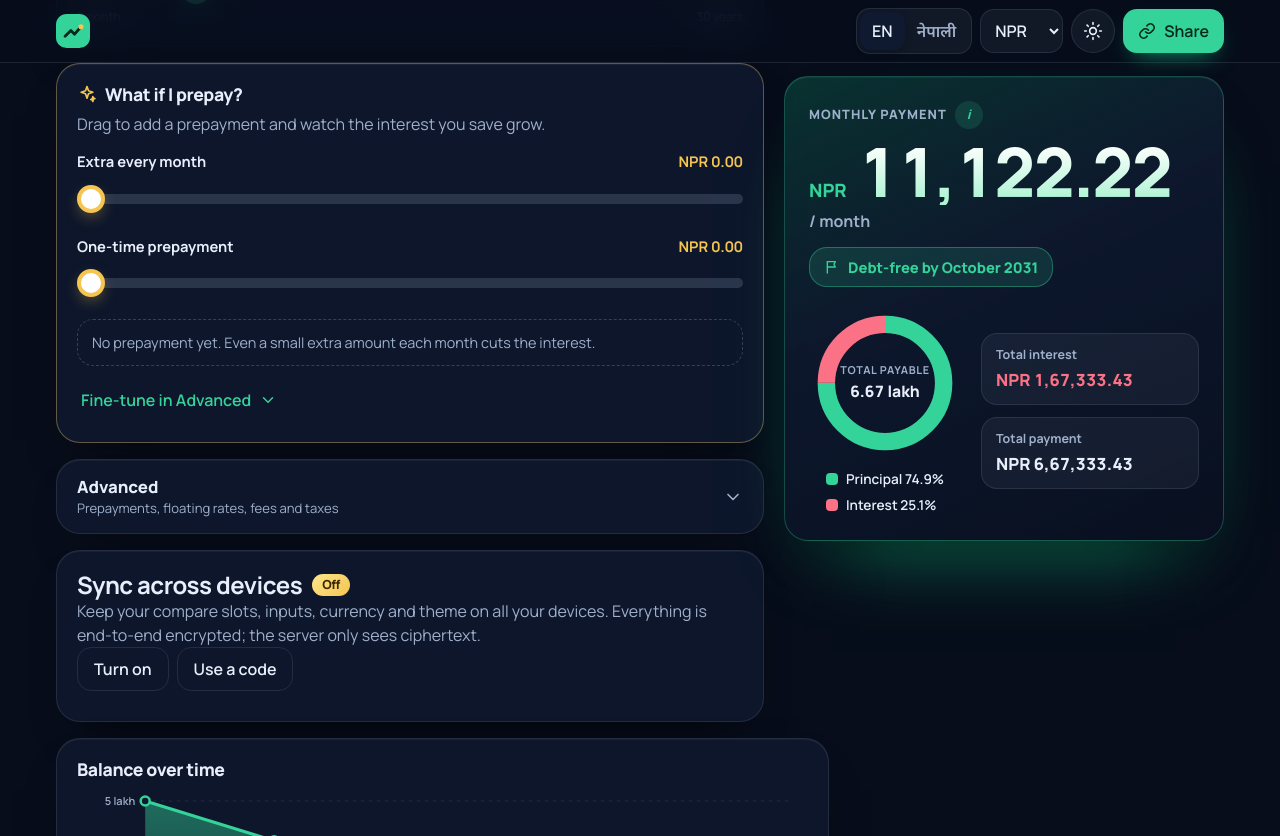
it: shows milestones timeline and highlights extra-payment gains
(page scrolled)
Click the text "Advanced": (118, 487) [77,475,158,498]
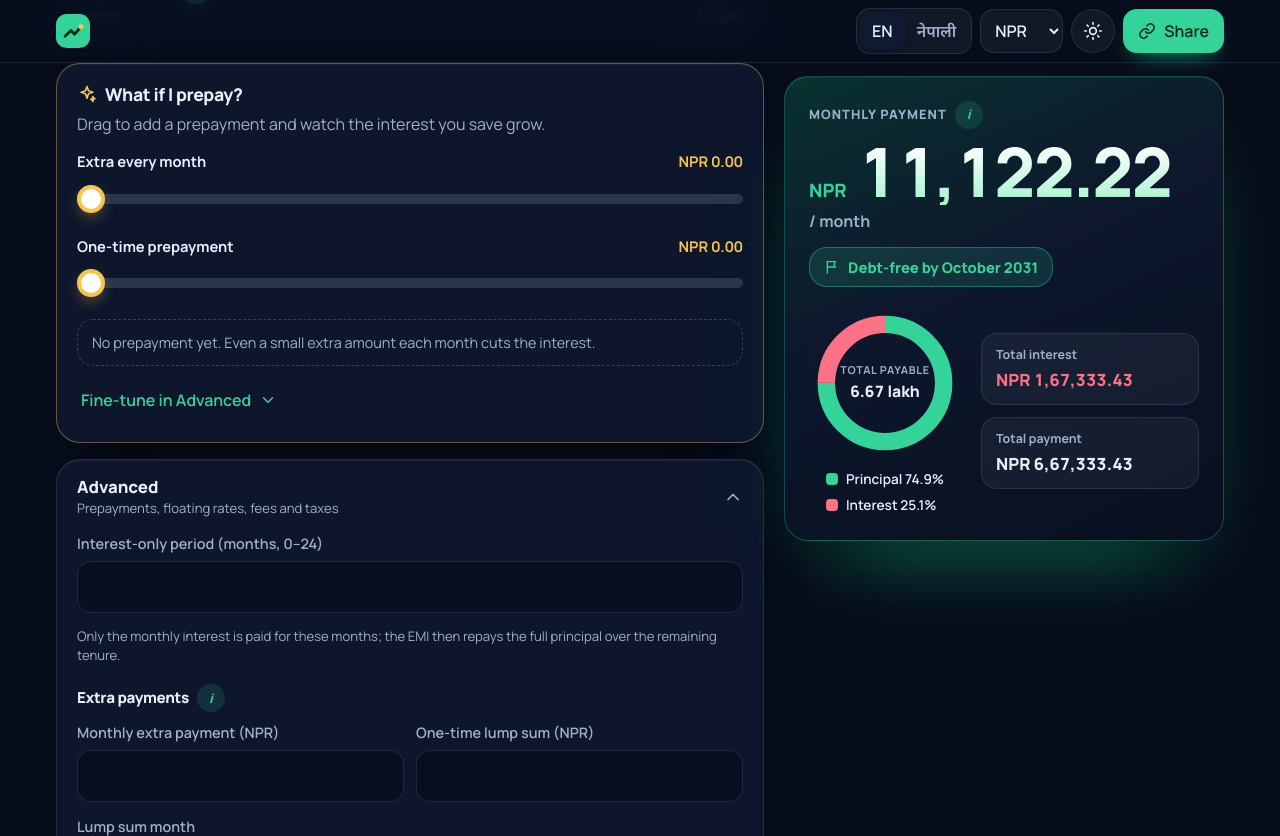
In the field labelled "Monthly extra payment (NPR)": (240, 776) [77,750,404,802], type "10000"
(page scrolled)
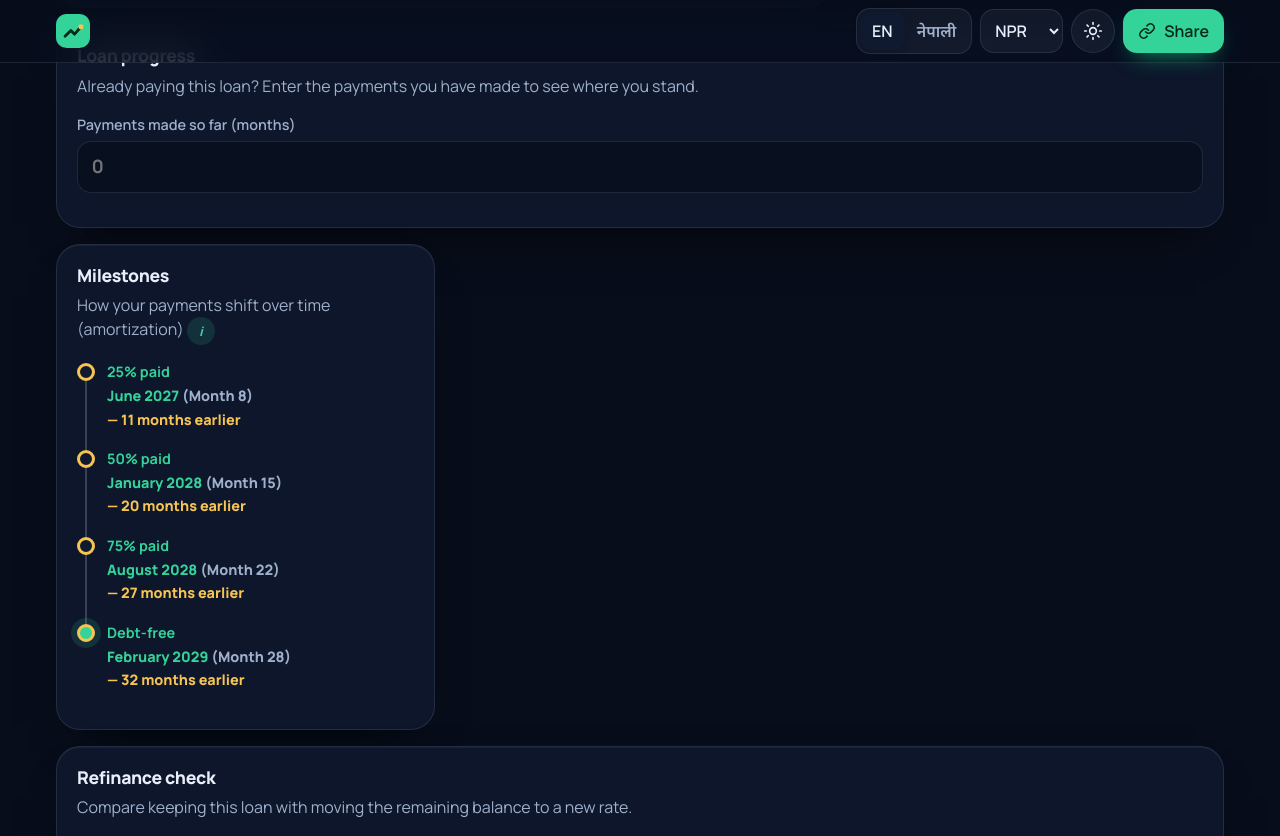
Now the element named "Debt-free milestones" shows "months earlier", box [107,410,241,429]
